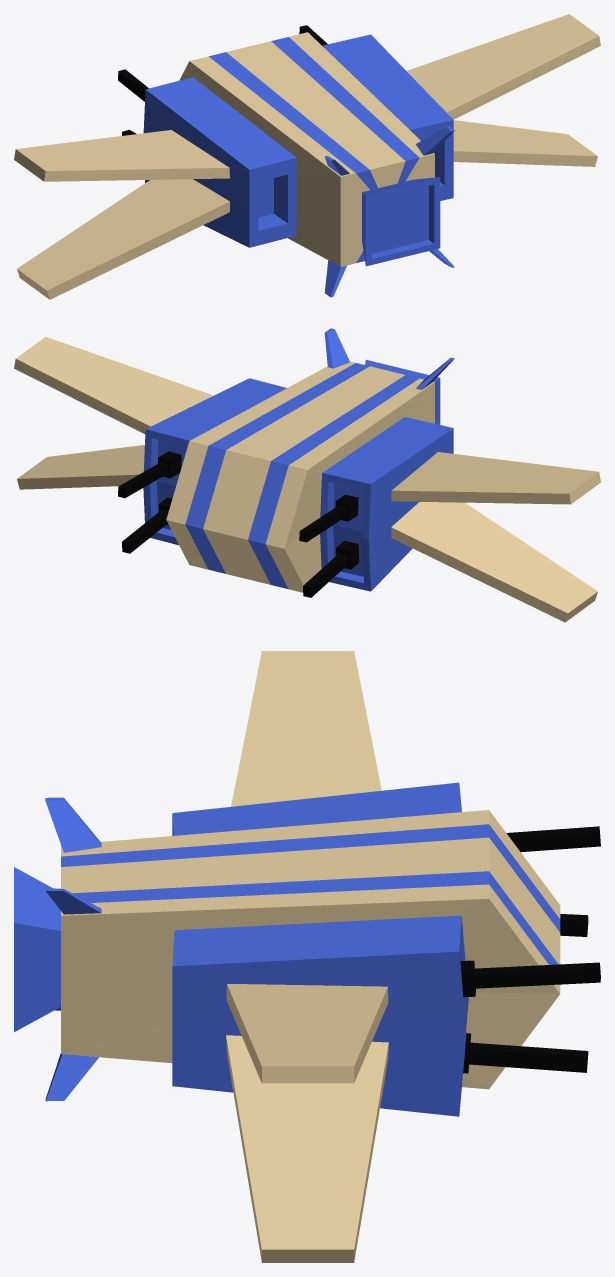
3 views of the same model, one above another, from view 1: azimuth 30°, elevation 25°; view 2: azimuth 150°, elevation 25°; view 3: azimuth 270°, elevation 25° (orthographic). The views are drawn at different scales.
Visible parts, largest first — view 1: Cube; view 2: Cube; view 3: Cube.
Part boxes in pixels (bbox=[...]): Cube: bbox=[14, 14, 600, 299]; Cube: bbox=[14, 328, 600, 622]; Cube: bbox=[14, 651, 600, 1262].
Bounding box in the file's own units: 181 × 43.28 × 108.
